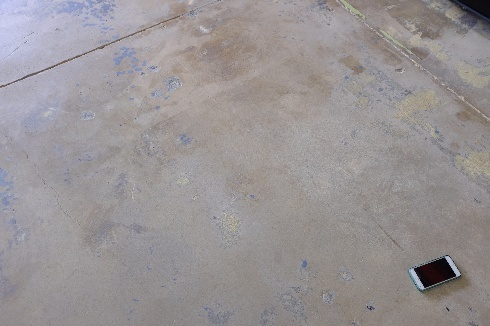phone: (411, 257, 460, 289)
